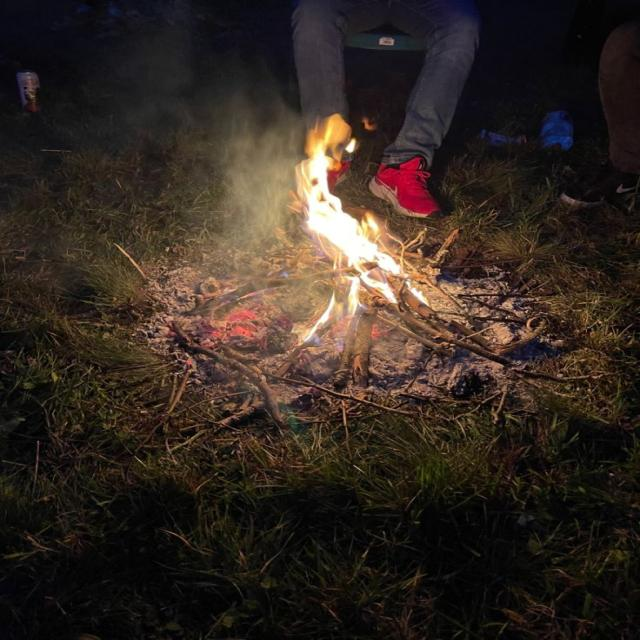fire: (294, 121, 405, 313)
